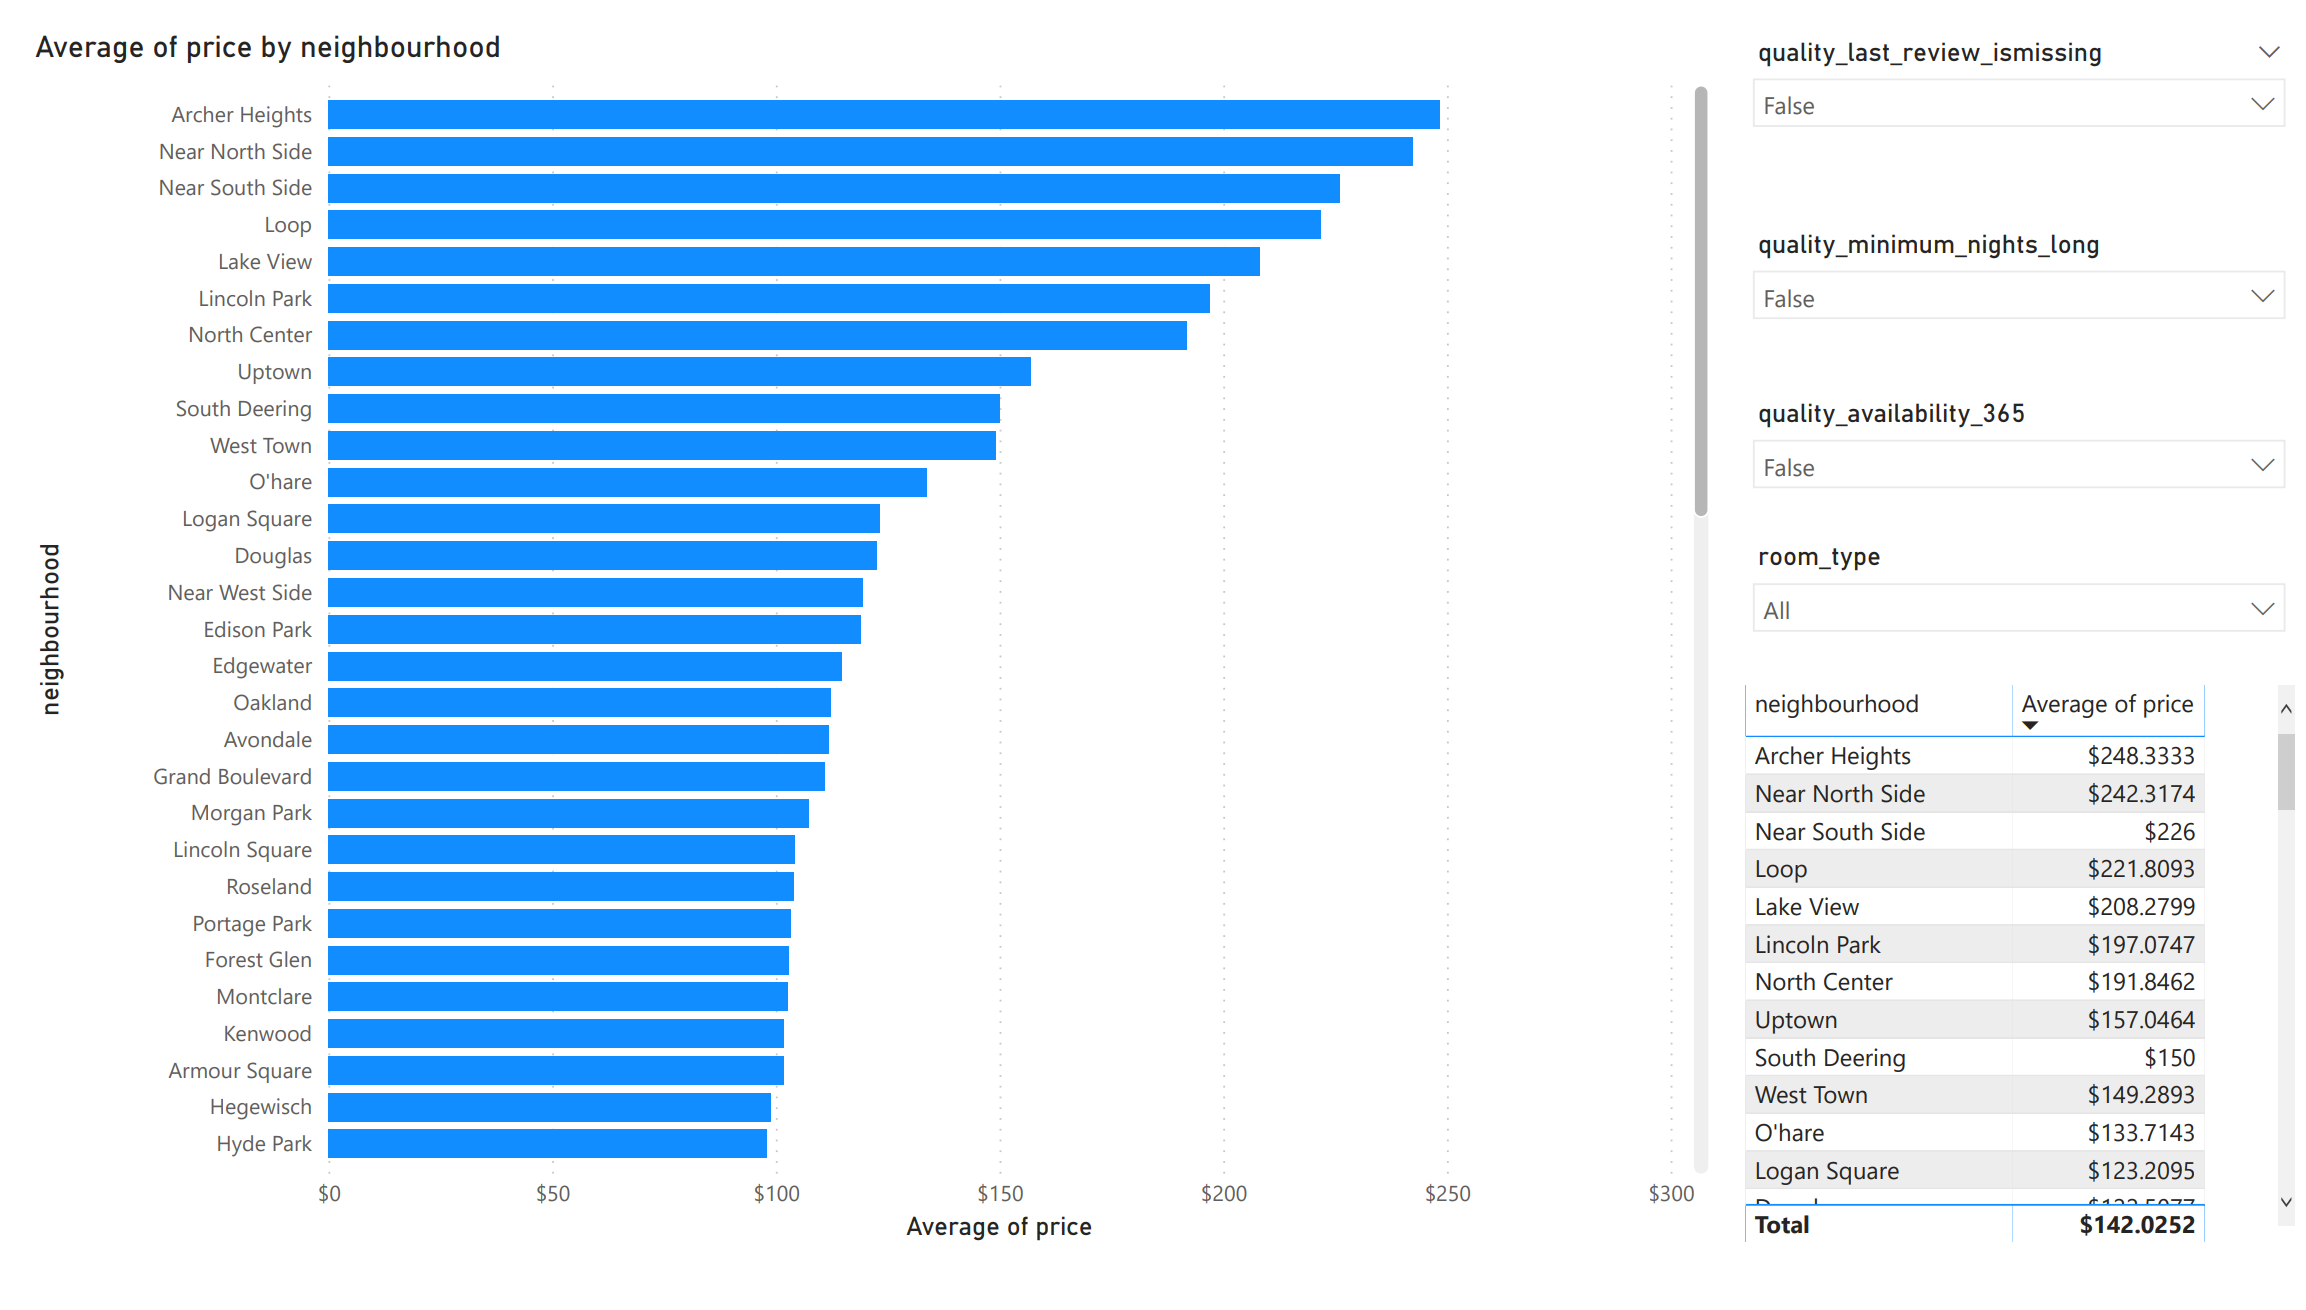

The page's visual inventory and layout, read from the dashboard file:
{"tool":"powerbi","page":{"name":"Page 1","canvas":[1280,720],"ordinal":0},"visuals":[{"type":"clusteredBarChart","fields":{"Category":["airbnb_cleaned.neighbourhood"],"Y":["Avg(airbnb_cleaned.price)"]},"box":[10,0,942.9,681.4],"z":0},{"type":"slicer","fields":{"Values":["airbnb_cleaned.quality_last_review_ismissing"]},"box":[962.9,0,317.1,82.9],"z":1},{"type":"slicer","fields":{"Values":["airbnb_cleaned.quality_minimum_nights_long"]},"box":[962.9,107.1,317.1,94.3],"z":2},{"type":"slicer","fields":{"Values":["airbnb_cleaned.quality_availability_365"]},"box":[962.9,201.4,317.1,80],"z":3},{"type":"slicer","fields":{"Values":["airbnb_cleaned.room_type"]},"box":[962.9,281.4,317.1,80],"z":4},{"type":"tableEx","fields":{"Values":["airbnb_cleaned.neighbourhood","Avg(airbnb_cleaned.price)"]},"box":[963,361,317,320],"z":5}]}

Visuals, with their boxes in screenshot pixels (x1, y1, x2, y2), scaled from the page's 1280x720 canvas onto the 2306x1310 screenshot:
clusteredBarChart - airbnb_cleaned.neighbourhood x Avg(airbnb_cleaned.price): [18,0,1717,1240]
slicer - airbnb_cleaned.quality_last_review_ismissing: [1735,0,2305,151]
slicer - airbnb_cleaned.quality_minimum_nights_long: [1735,195,2305,366]
slicer - airbnb_cleaned.quality_availability_365: [1735,366,2305,512]
slicer - airbnb_cleaned.room_type: [1735,512,2305,658]
tableEx - airbnb_cleaned.neighbourhood x Avg(airbnb_cleaned.price): [1735,657,2305,1239]
